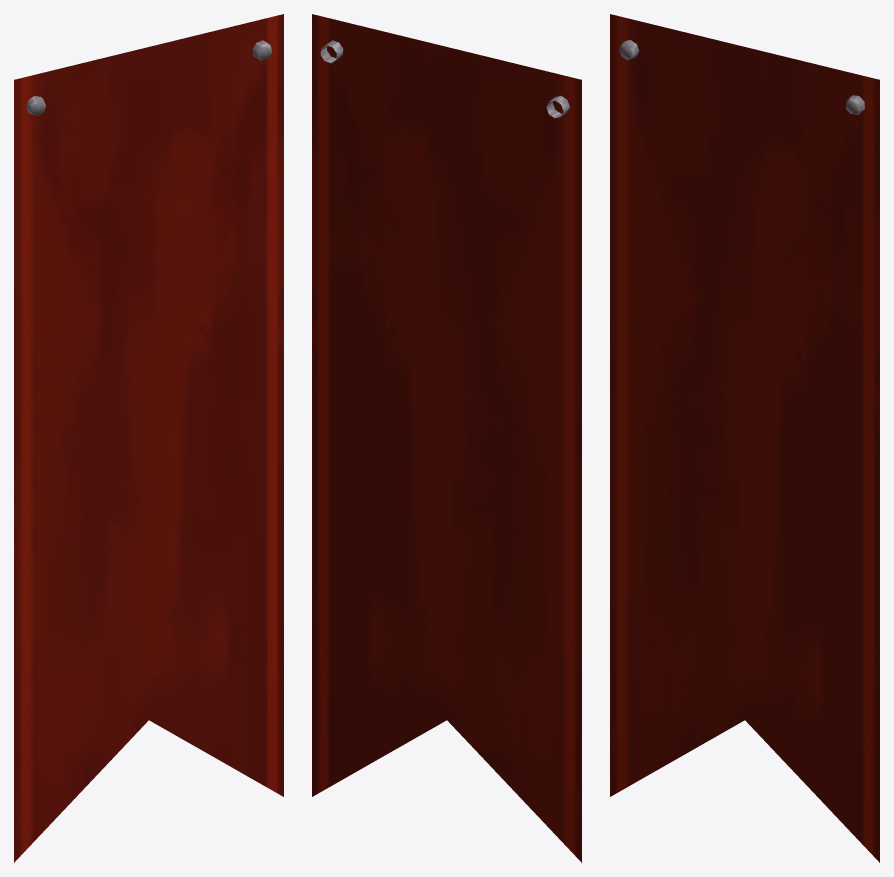
Rendered from props.glb.
3 views of the same model, side by side, from view 1: azimuth 30°, elevation 25°; view 2: azimuth 150°, elevation 25°; view 3: azimuth 330°, elevation 25° (orthographic).
Parts seen in each view (by area): view 1: Banner_1_Cloth; view 2: Banner_1_Cloth; view 3: Banner_1_Cloth.
Part boxes in pixels (box(x1,y1,x2,y2)): Banner_1_Cloth: box(14, 14, 283, 862); Banner_1_Cloth: box(312, 14, 581, 862); Banner_1_Cloth: box(610, 14, 879, 862).
Bounding box in the file's own units: 0.8101 × 2.25 × 0.0568.
Materials: 2 (2 with a texture image).
